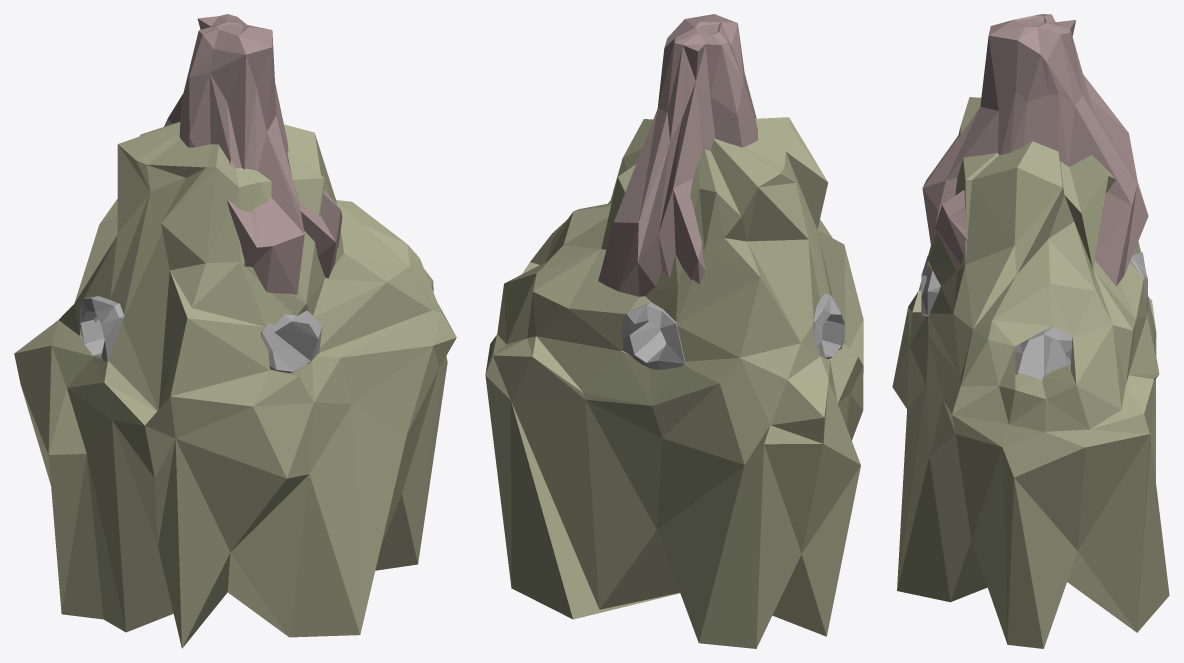
The model's file is MountainCrossroad 1.fbx.
3 views of the same model, side by side, from view 1: azimuth 30°, elevation 25°; view 2: azimuth 150°, elevation 25°; view 3: azimuth 270°, elevation 25° (orthographic). The views are drawn at different scales.
Visible parts, largest first — view 1: MountainBase, MountainTop, MountainTunnel; view 2: MountainBase, MountainTop, MountainTunnel; view 3: MountainBase, MountainTop, MountainTunnel.
Part boxes in pixels (bbox=[...]): MountainBase: bbox=[14, 121, 456, 648]; MountainTop: bbox=[164, 14, 342, 294]; MountainTunnel: bbox=[80, 296, 322, 373]; MountainBase: bbox=[485, 117, 863, 648]; MountainTop: bbox=[598, 14, 757, 370]; MountainTunnel: bbox=[621, 293, 844, 369]; MountainBase: bbox=[892, 97, 1169, 648]; MountainTop: bbox=[922, 14, 1148, 285]; MountainTunnel: bbox=[921, 252, 1147, 380].
Size of the model in its own units: 13.55 by 19.63 by 9.07.
